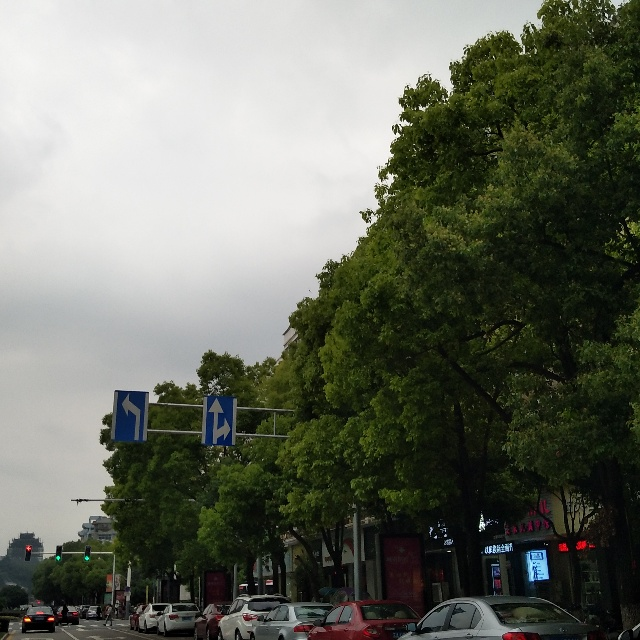left: (114, 389, 150, 443)
